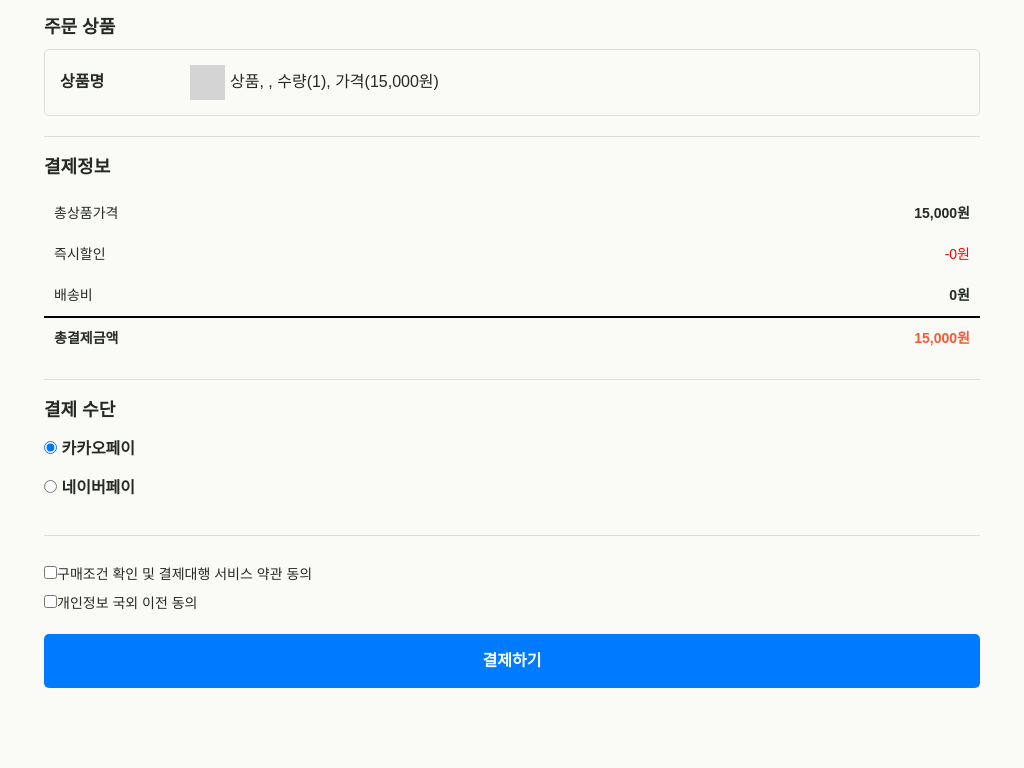
Test: moves the PC checkout to completion only after server approval
(page scrolled)
Expected: the text "상품, , 수량(1), 가격(15,000원)" is shown, [190,65,439,100]
Expected: the text "결제가 완료되었습니다" is not shown
Click the checkbox labelled "구매조건 확인 및 결제대행 서비스 약관 동의": coordinates (50, 572) [44,566,57,579]
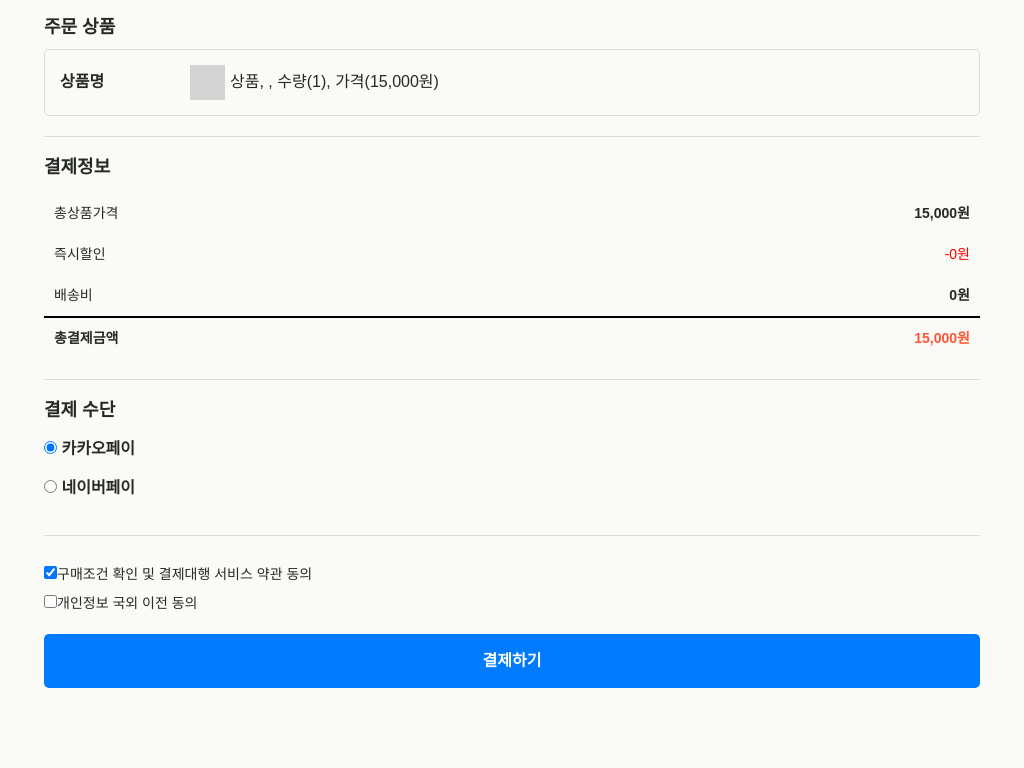
Click the checkbox labelled "개인정보 국외 이전 동의": coordinates (50, 602) [44,595,57,608]
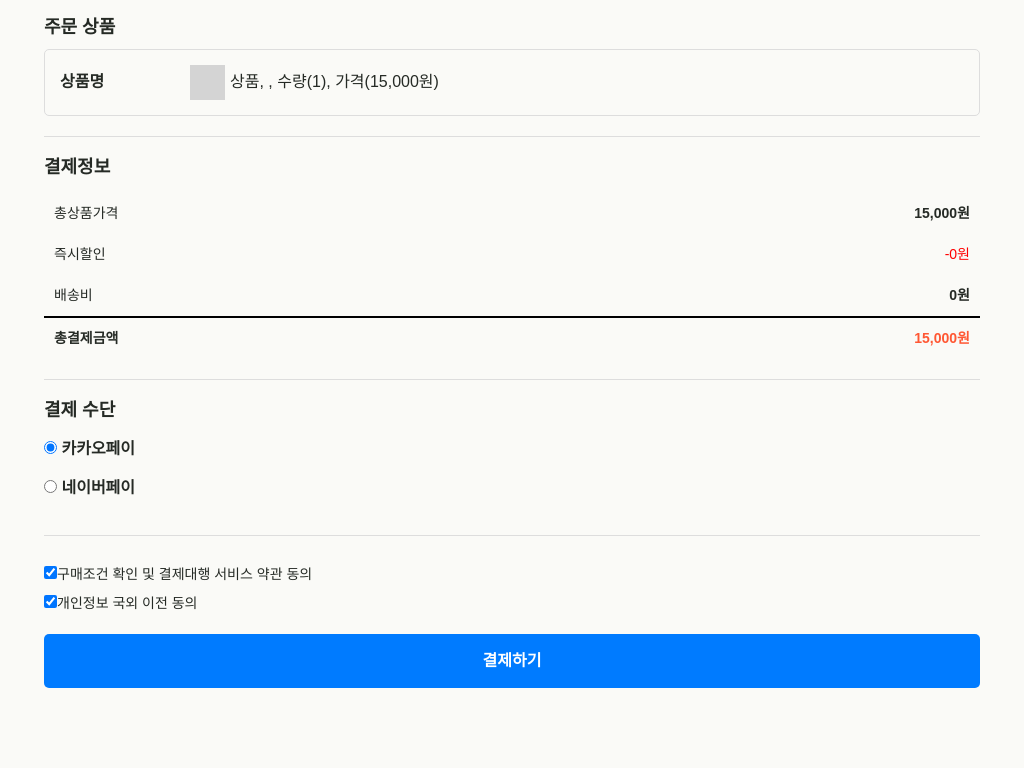
Click the button "결제하기": coordinates (512, 661) [44,634,980,688]
(page scrolled)
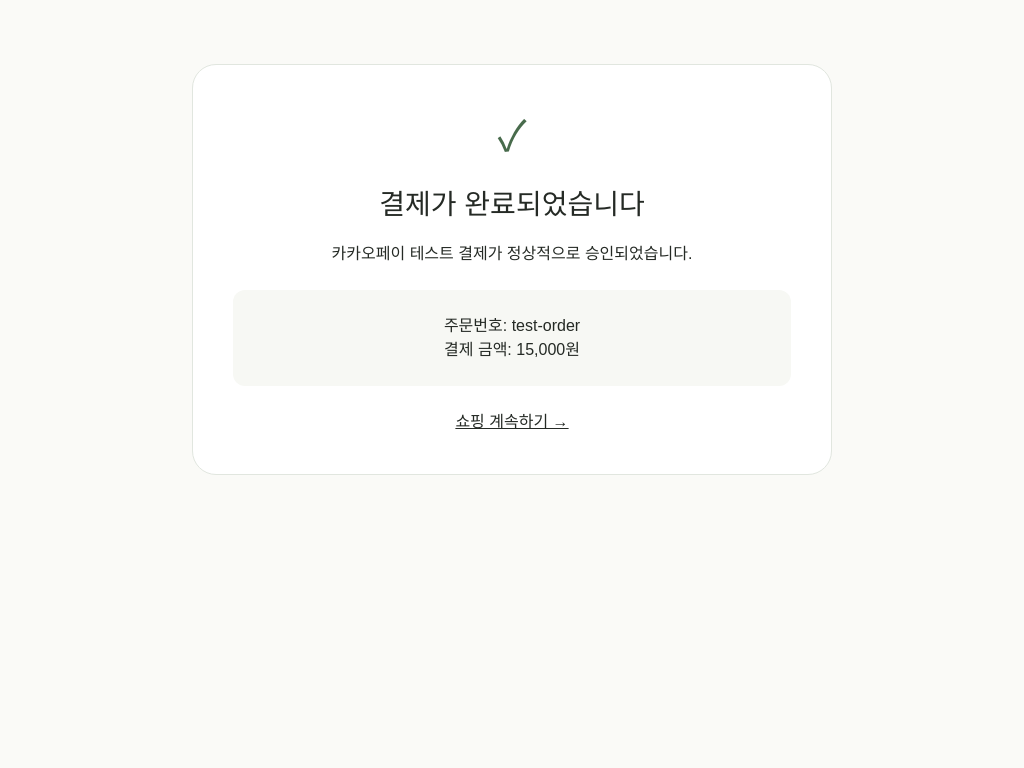
Expected: the heading "결제가 완료되었습니다" is shown, [379,189,645,220]
Expected: the text "결제 금액: 15,000원" is shown, [444,341,580,358]
